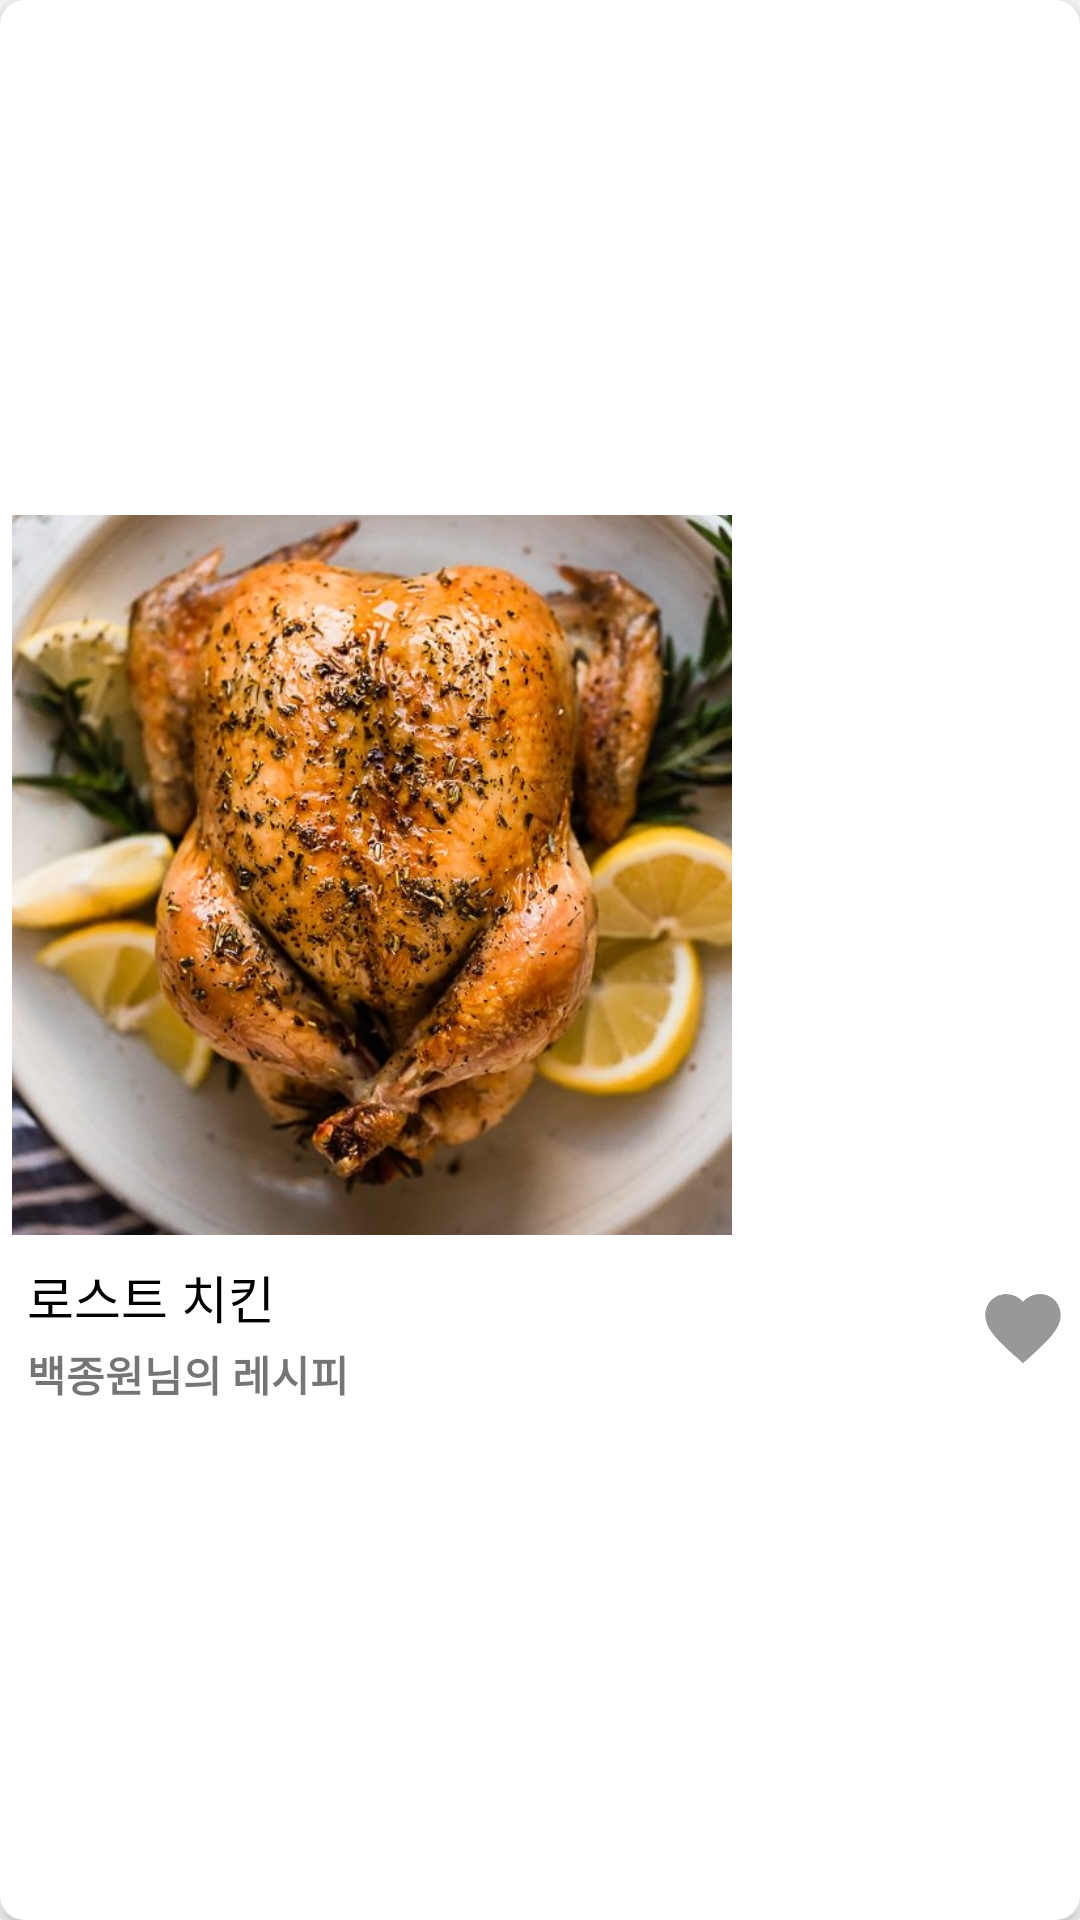

Where to tap for icons on this 1080w x 1920h app screen, as (x,y):
liked: (1023,1328)
